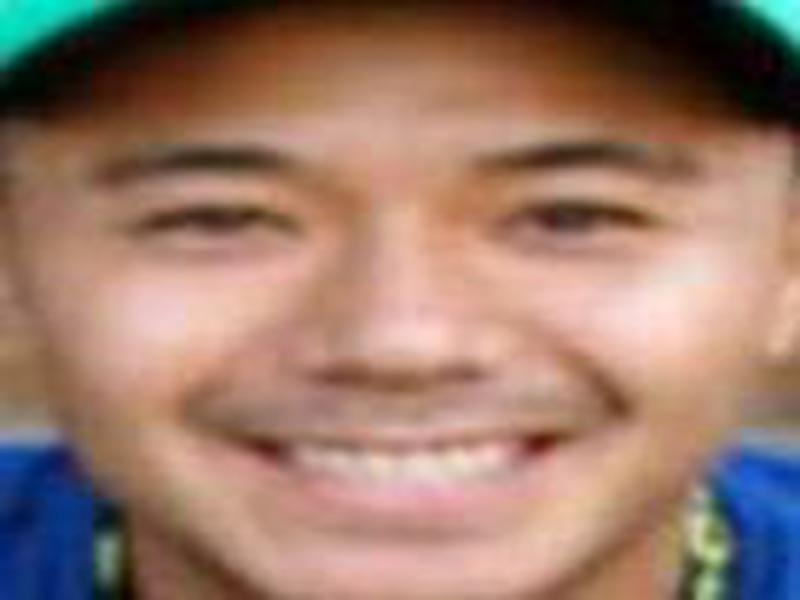without_mask: (8, 70, 787, 599)
